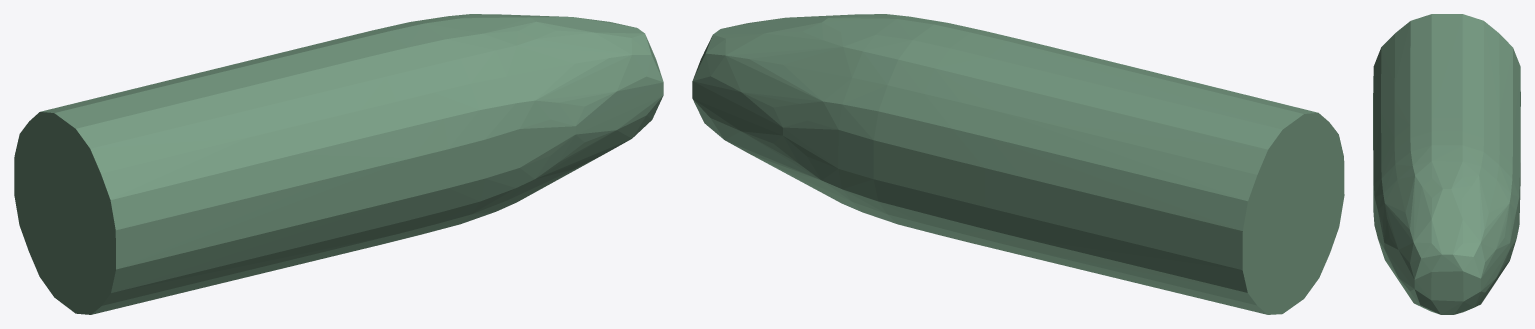
3 views of the same model, side by side, from view 1: azimuth 30°, elevation 25°; view 2: azimuth 150°, elevation 25°; view 3: azimuth 270°, elevation 25° (orthographic). The views are drawn at different scales.
Bounding box in the file's own units: 0.0235 × 0.00716 × 0.00713.
